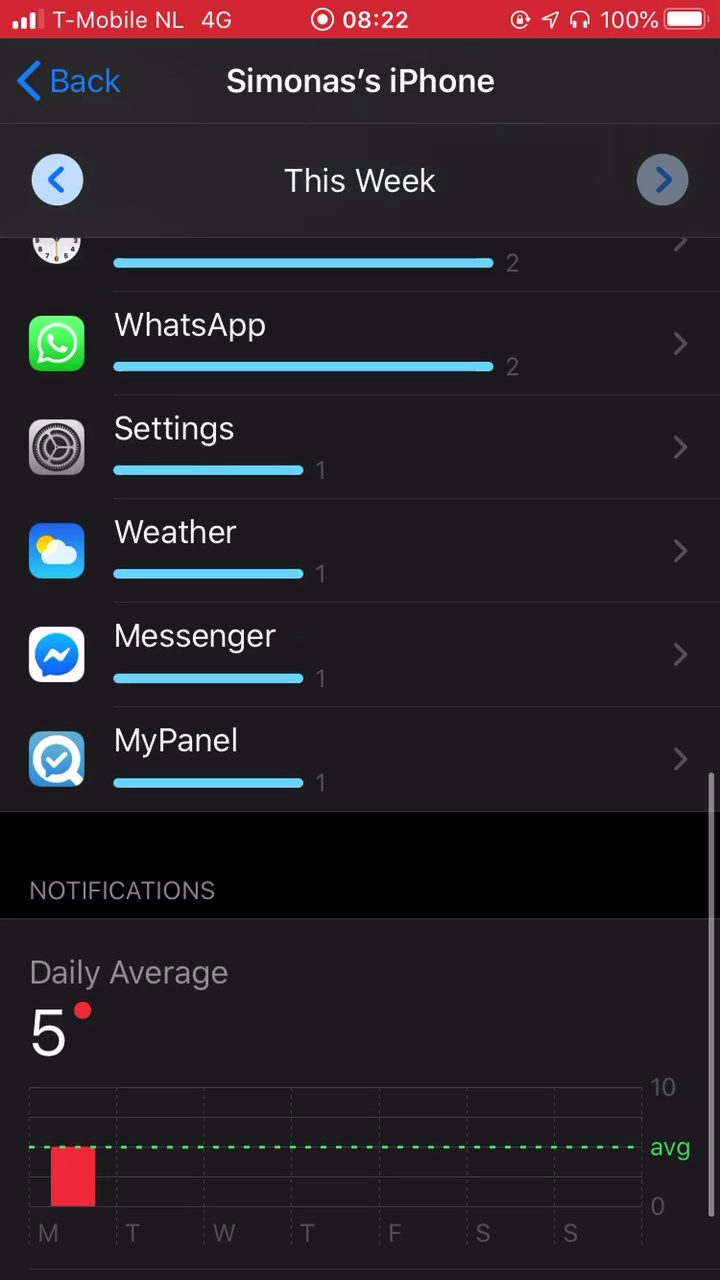not_over: (21, 869, 267, 1071)
pick_app: (20, 302, 546, 400), (25, 508, 350, 596), (26, 721, 340, 808), (23, 416, 379, 491), (21, 619, 343, 697)
week: (266, 152, 448, 203)
